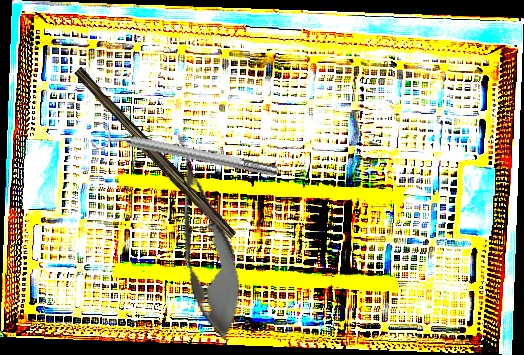Fixation Ring: (88, 118, 281, 188)
Micro Scissor: (155, 128, 253, 346)
Scalpel Handle: (68, 66, 240, 243)
